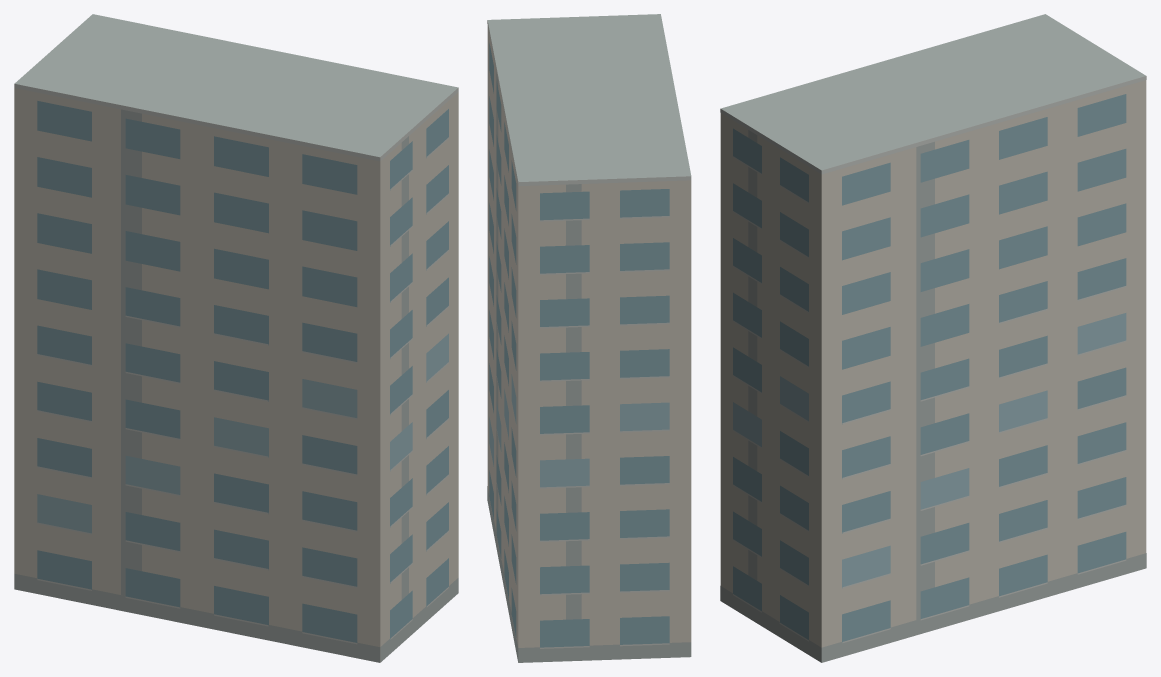
The model's file is residential-20ce7d42-cceb-44ee-a25b-adc9a3ff1f01.glb.
3 renders of one model, left to right at view 1: azimuth 30°, elevation 25°; view 2: azimuth 150°, elevation 25°; view 3: azimuth 270°, elevation 25°, orthographic. The views are drawn at different scales.
Parts seen in each view (by area): view 1: residential-20ce7d42-cceb-44ee-a25b-adc9a3ff1f01.tmp; view 2: residential-20ce7d42-cceb-44ee-a25b-adc9a3ff1f01.tmp; view 3: residential-20ce7d42-cceb-44ee-a25b-adc9a3ff1f01.tmp.
Boxes of the visible parts, x1,y1,x2,y2 form: residential-20ce7d42-cceb-44ee-a25b-adc9a3ff1f01.tmp: (14,14,458,662); residential-20ce7d42-cceb-44ee-a25b-adc9a3ff1f01.tmp: (487,14,691,662); residential-20ce7d42-cceb-44ee-a25b-adc9a3ff1f01.tmp: (720,14,1146,662).
Size of the model in its own units: 19.77 by 29 by 22.74.
